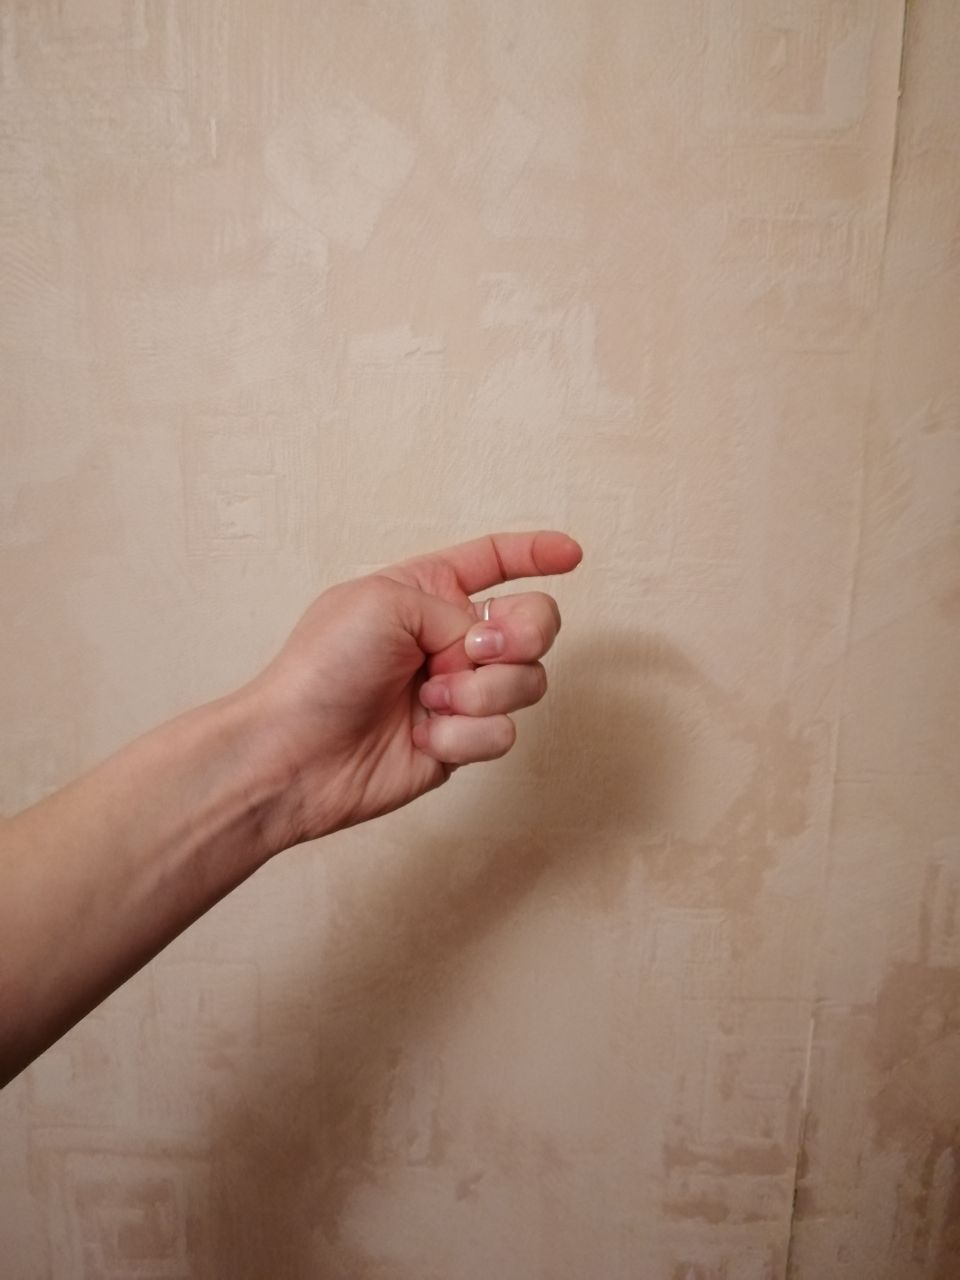hand: (337, 548, 562, 744)
